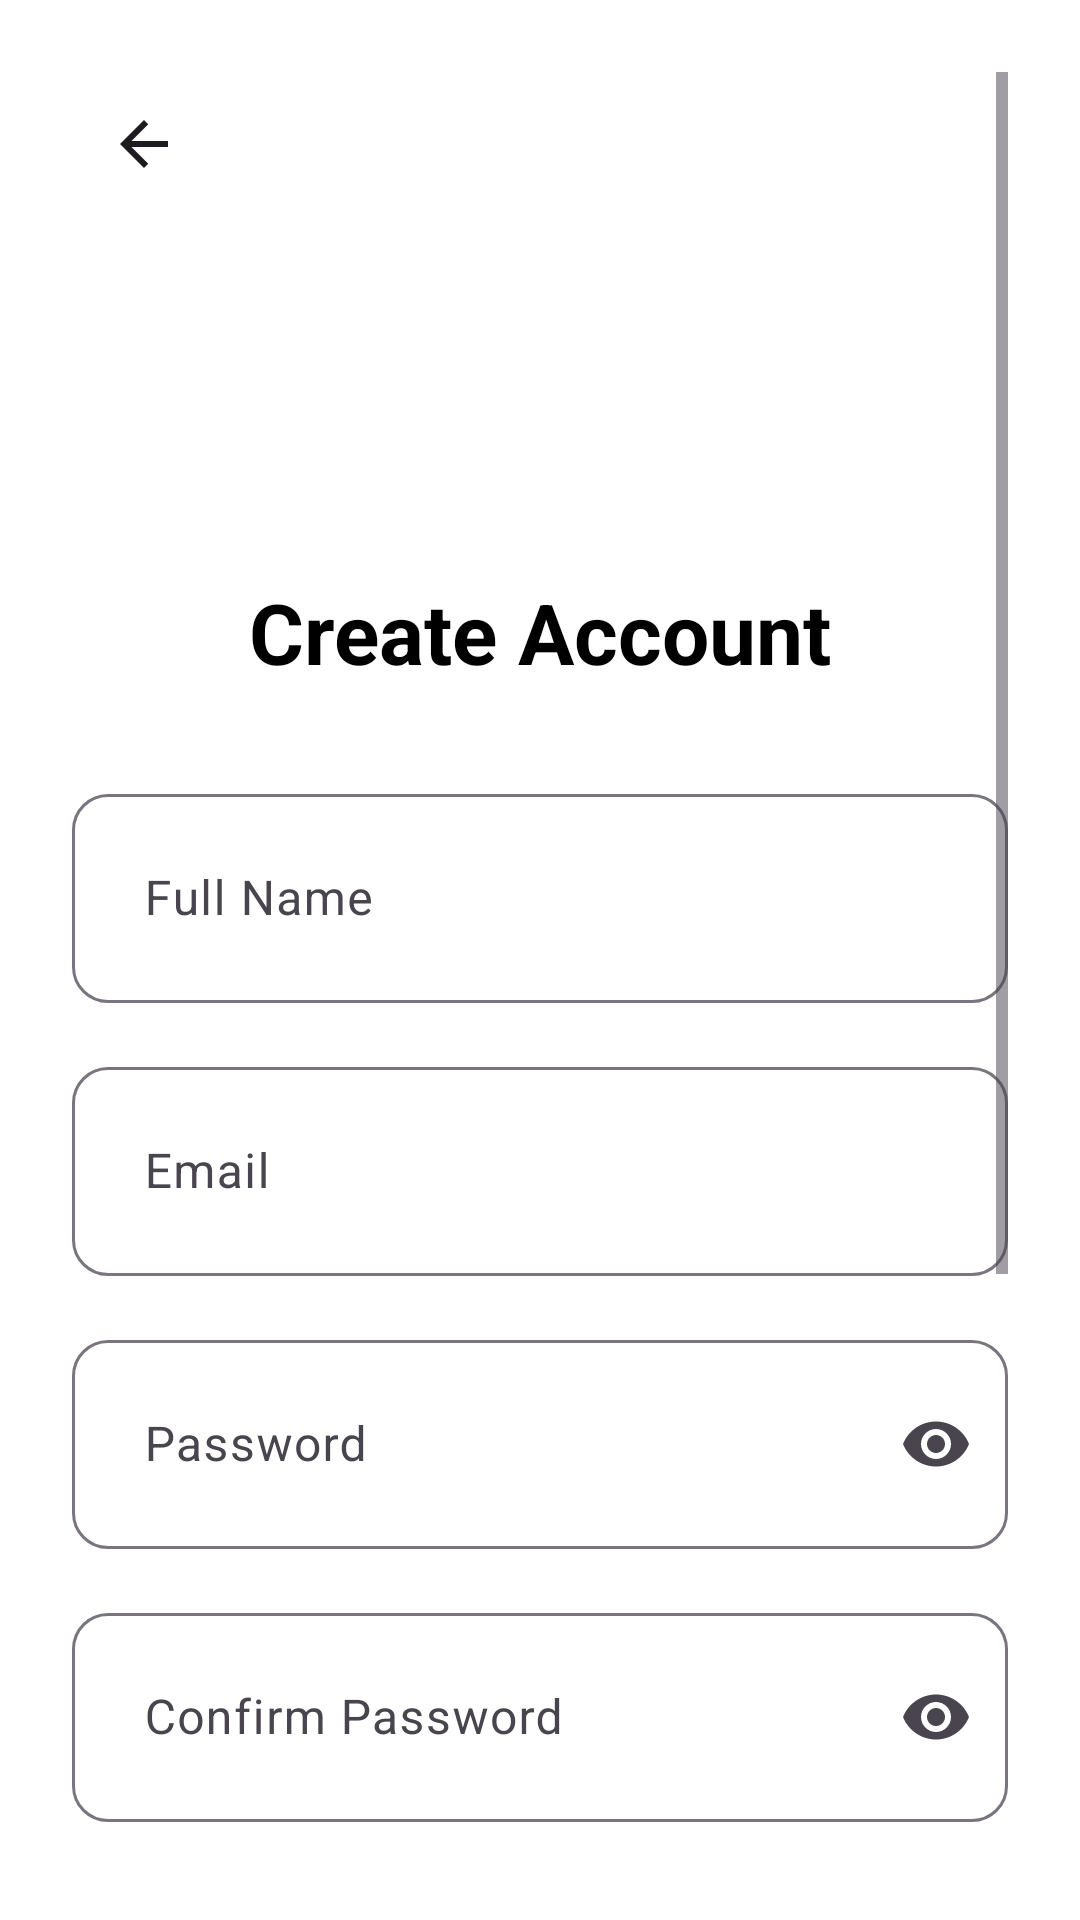

Named icons in this screenshot (1080*1920) and their centers, point (x, y):
arrow back: point (144, 144)
